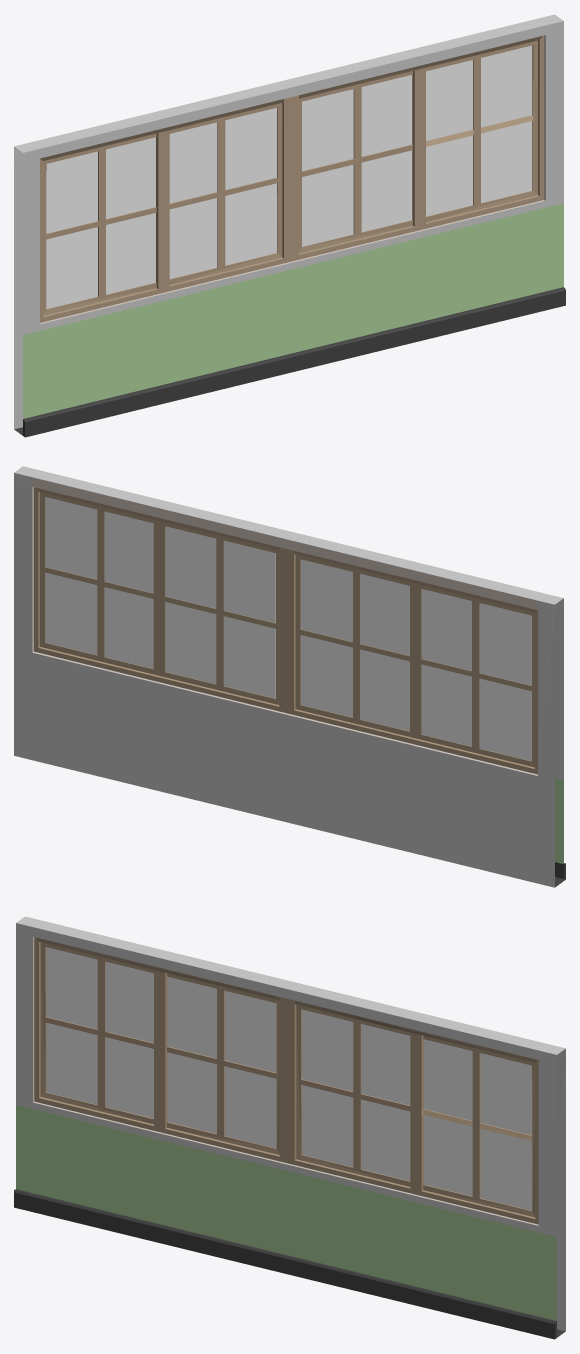
File: School_Window2.fbx
The picture shows the model from 3 angles, top to bottom: view 1: azimuth 30°, elevation 25°; view 2: azimuth 150°, elevation 25°; view 3: azimuth 330°, elevation 25°; orthographic projection.
Parts seen in each view (by area): view 1: School_Window2, Mirror.004; view 2: School_Window2, Mirror.004; view 3: School_Window2, Mirror.004.
Part boxes in pixels (<box>): School_Window2: <box>14,14,565,437</box>; Mirror.004: <box>46,45,532,309</box>; School_Window2: <box>14,466,565,887</box>; Mirror.004: <box>45,497,531,760</box>; School_Window2: <box>14,916,565,1339</box>; Mirror.004: <box>46,947,532,1210</box>.
Bounding box in the file's own units: 501 × 250 × 17.83.
